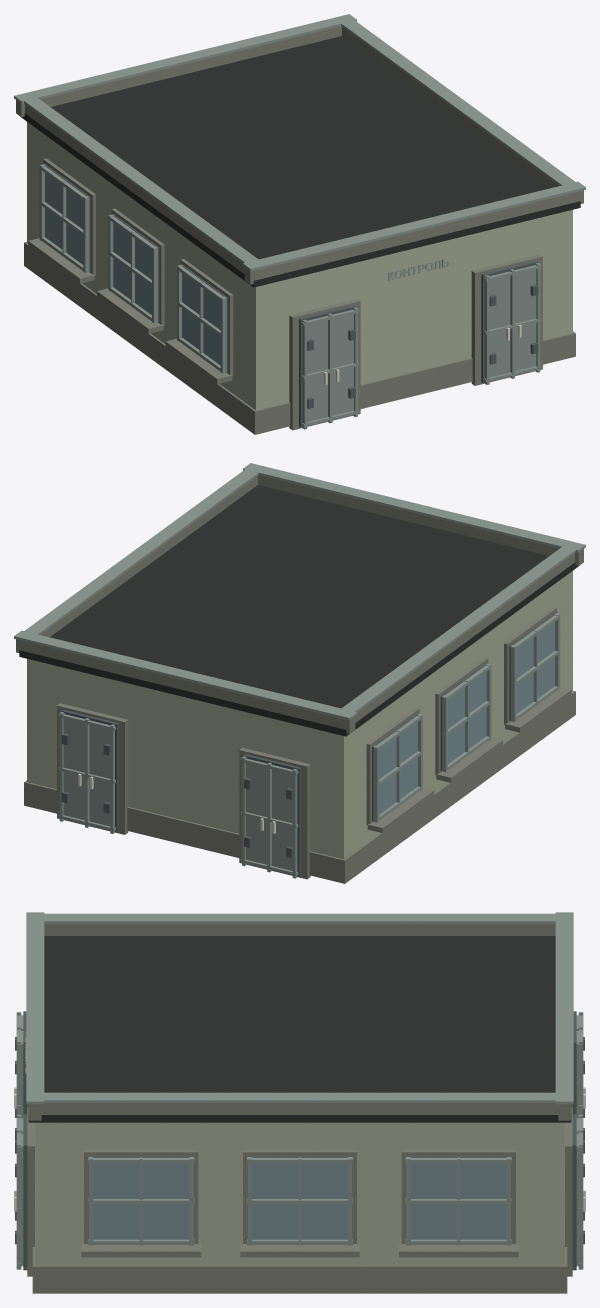
Rendered from pedestrian_control.glb.
3 renders of one model, top to bottom at view 1: azimuth 30°, elevation 25°; view 2: azimuth 150°, elevation 25°; view 3: azimuth 270°, elevation 25°, orthographic. The views are drawn at different scales.
Visible parts, largest first — view 1: pedestrian_control; view 2: pedestrian_control; view 3: pedestrian_control.
Boxes of the visible parts, x1,y1,x2,y2 form: pedestrian_control: (14, 14, 585, 434); pedestrian_control: (14, 463, 585, 883); pedestrian_control: (14, 912, 585, 1293).
Size of the model in its own units: 8.94 by 4.15 by 10.81.
7 materials, 3 textured.
